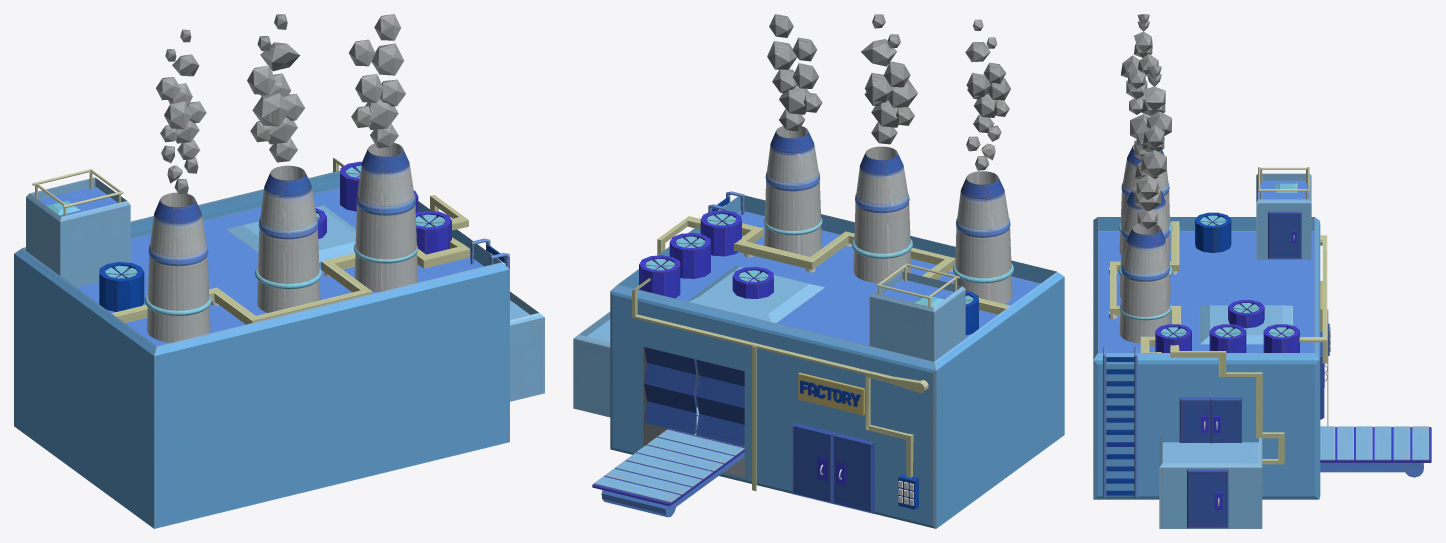
Rendered from Factory-optimized.glb.
The picture shows the model from 3 angles, left to right: view 1: azimuth 30°, elevation 25°; view 2: azimuth 150°, elevation 25°; view 3: azimuth 270°, elevation 25°; orthographic projection. The views are drawn at different scales.
Parts seen in each view (by area): view 1: Node; view 2: Node; view 3: Node.
Part boxes in pixels (box(x1,y1,x2,y2)): Node: box(14, 14, 544, 528); Node: box(573, 14, 1064, 528); Node: box(1093, 14, 1431, 528).
Size of the model in its own units: 792 by 796 by 656.
1 material, 1 textured.
